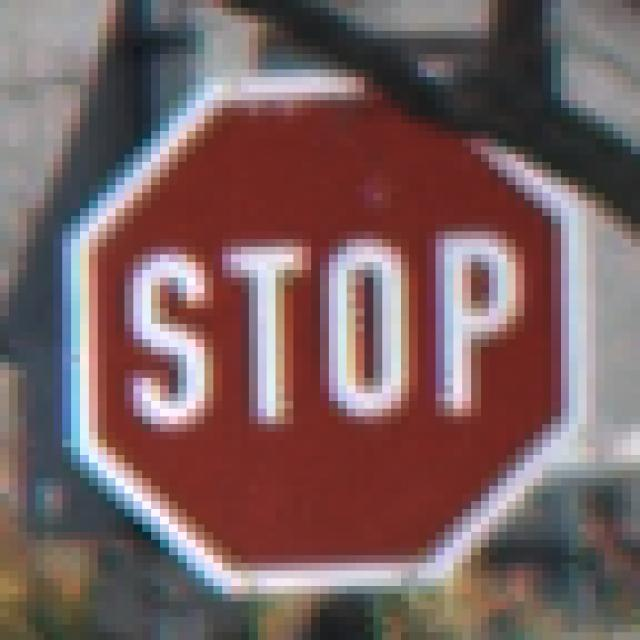stop: (60, 76, 585, 594)
